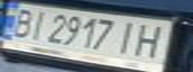1: (78, 15, 100, 51)
2: (42, 11, 69, 45)
7: (90, 16, 118, 53)
9: (57, 14, 84, 48)
B: (3, 6, 39, 38)
H: (127, 20, 178, 61)
I: (112, 18, 145, 57), (21, 8, 51, 42)
